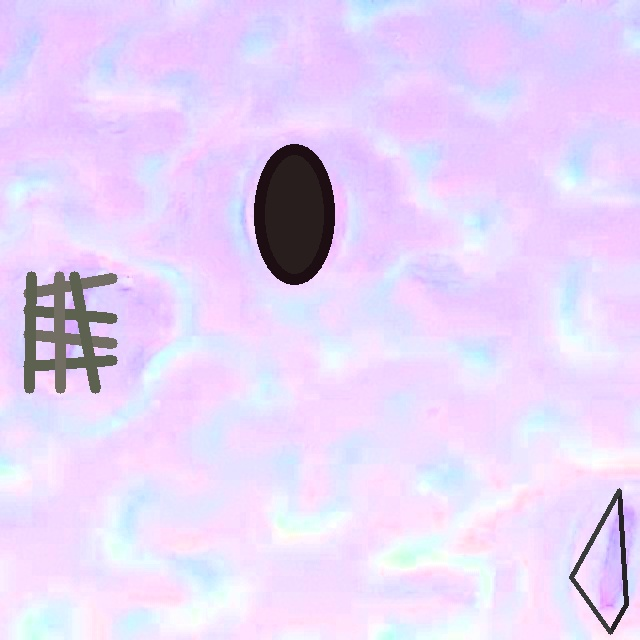open: (23, 272, 116, 392), (255, 144, 334, 285), (569, 488, 628, 634)
